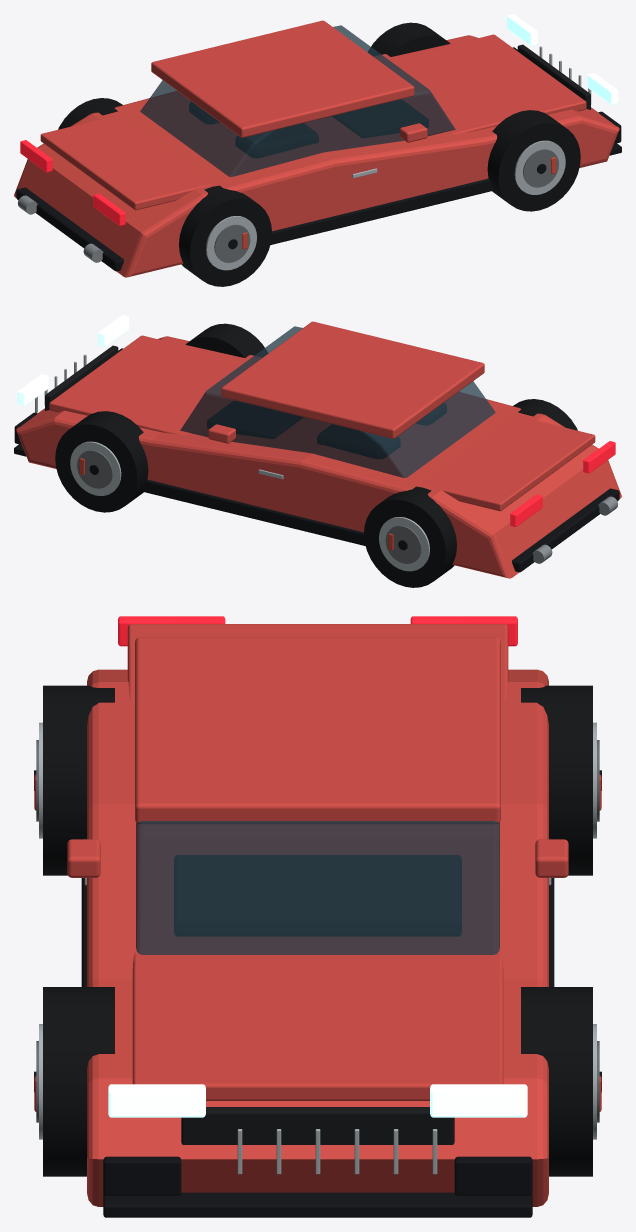
Rendered from lambo_gallardo.glb.
3 views of the same model, one above another, from view 1: azimuth 30°, elevation 25°; view 2: azimuth 150°, elevation 25°; view 3: azimuth 270°, elevation 25° (orthographic). The views are drawn at different scales.
Parts seen in each view (by area): view 1: sculpted_body, roof, glasshouse, hood_center, rear_deck, front_right_wheel_tire, rear_right_wheel_tire, side_skirt_1, dashboard, front_left_wheel_tire, seat_1, rear_diffuser (+11 smaller); view 2: sculpted_body, roof, glasshouse, hood_center, rear_deck, front_left_wheel_tire, rear_left_wheel_tire, side_skirt_-1, dashboard, front_right_wheel_tire, seat_-1, rear_diffuser (+11 smaller); view 3: sculpted_body, roof, hood_center, glasshouse, dashboard, front_splitter, front_left_wheel_tire, front_right_wheel_tire, front_grille, rear_left_wheel_tire, rear_right_wheel_tire, rear_deck (+8 smaller).
Boxes of the visible parts, x1=… form: sculpted_body: x1=14, y1=35, x2=619, y2=277; roof: x1=151, y1=20, x2=414, y2=137; glasshouse: x1=140, y1=25, x2=455, y2=176; hood_center: x1=382, y1=34, x2=586, y2=134; rear_deck: x1=40, y1=114, x2=214, y2=210; front_right_wheel_tire: x1=487, y1=110, x2=580, y2=211; rear_right_wheel_tire: x1=179, y1=185, x2=271, y2=286; side_skirt_1: x1=270, y1=178, x2=494, y2=244; dashboard: x1=333, y1=100, x2=428, y2=137; front_left_wheel_tire: x1=368, y1=22, x2=450, y2=56; seat_1: x1=236, y1=123, x2=318, y2=157; rear_diffuser: x1=16, y1=187, x2=123, y2=271; sculpted_body: x1=16, y1=336, x2=621, y2=578; roof: x1=221, y1=321, x2=484, y2=438; glasshouse: x1=180, y1=326, x2=495, y2=477; hood_center: x1=49, y1=335, x2=253, y2=435; rear_deck: x1=421, y1=415, x2=595, y2=511; front_left_wheel_tire: x1=55, y1=411, x2=148, y2=512; rear_left_wheel_tire: x1=364, y1=486, x2=456, y2=587; side_skirt_-1: x1=141, y1=479, x2=365, y2=545; dashboard: x1=207, y1=401, x2=302, y2=438; front_right_wheel_tire: x1=185, y1=323, x2=267, y2=357; seat_-1: x1=317, y1=424, x2=399, y2=458; rear_diffuser: x1=512, y1=488, x2=619, y2=572; sculpted_body: x1=87, y1=669, x2=548, y2=1206; roof: x1=135, y1=637, x2=500, y2=823; hood_center: x1=132, y1=951, x2=503, y2=1100; glasshouse: x1=136, y1=821, x2=499, y2=954; dashboard: x1=174, y1=855, x2=461, y2=935; front_splitter: x1=103, y1=1192, x2=532, y2=1217; front_left_wheel_tire: x1=521, y1=987, x2=592, y2=1176; front_right_wheel_tire: x1=43, y1=987, x2=114, y2=1176; front_grille: x1=181, y1=1107, x2=454, y2=1144; rear_left_wheel_tire: x1=521, y1=685, x2=592, y2=875; rear_right_wheel_tire: x1=43, y1=685, x2=114, y2=875; rear_deck: x1=127, y1=624, x2=508, y2=701.
Bounding box in the file's own units: 4.65 × 1.14 × 2.21.
